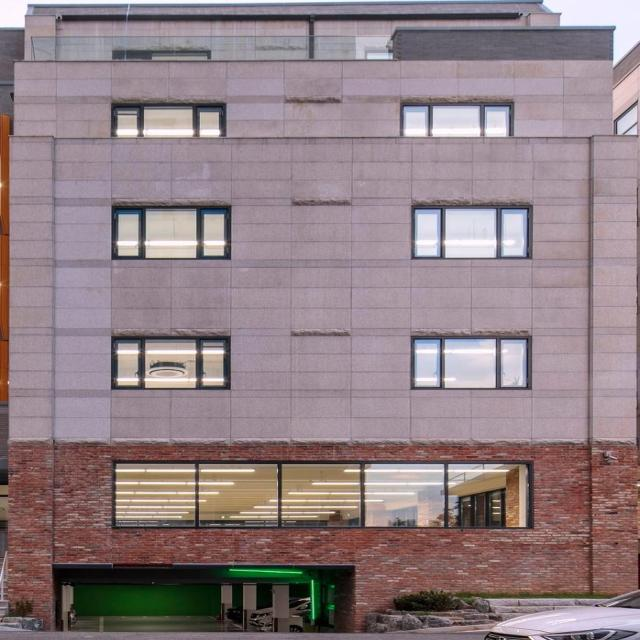railing: (28, 36, 396, 62)
window: (113, 460, 530, 527), (410, 337, 528, 387), (413, 207, 531, 256), (111, 340, 222, 388), (115, 210, 226, 257), (112, 104, 225, 138), (402, 102, 514, 136)
